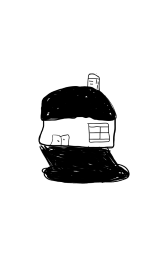chimney: (86, 69, 104, 93)
closed_window: (87, 122, 111, 144)
door: (49, 132, 72, 148)
shaded_roof: (34, 84, 120, 123)
shadow: (38, 143, 132, 186)
small_house: (1, 3, 161, 260)
wall: (37, 113, 118, 151)
